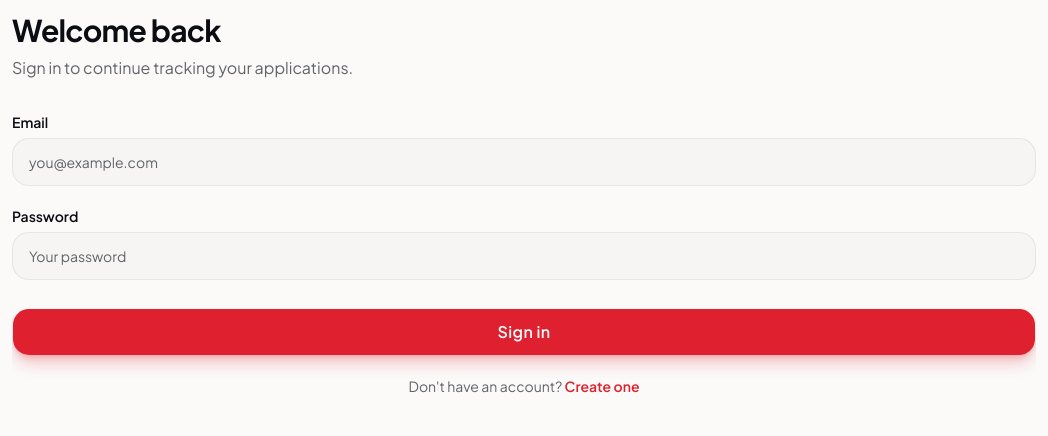
Scenario: LoginForm › shows validation error for short password
Type "user@example.com" into the field labelled "Email". click: {"x": 524, "y": 162}
box: x1=12 y1=138 x2=1036 y2=186
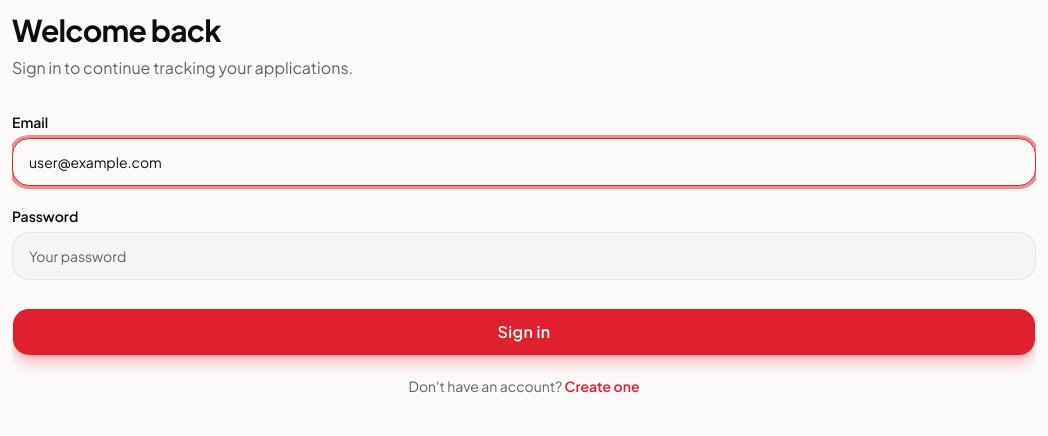
Type "short" into the password field labelled "Password". click: {"x": 524, "y": 256}
box: x1=12 y1=232 x2=1036 y2=280
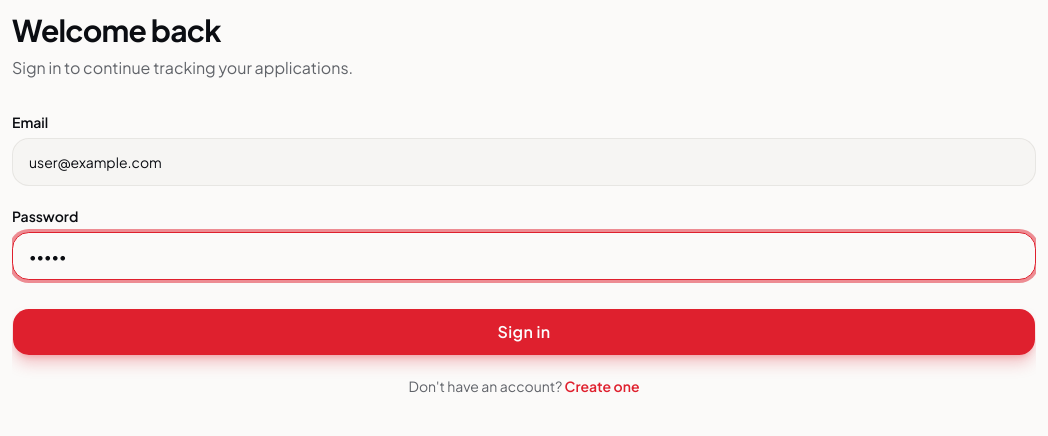
Click the button "Sign in". click: {"x": 524, "y": 332}
box: x1=12 y1=308 x2=1036 y2=356
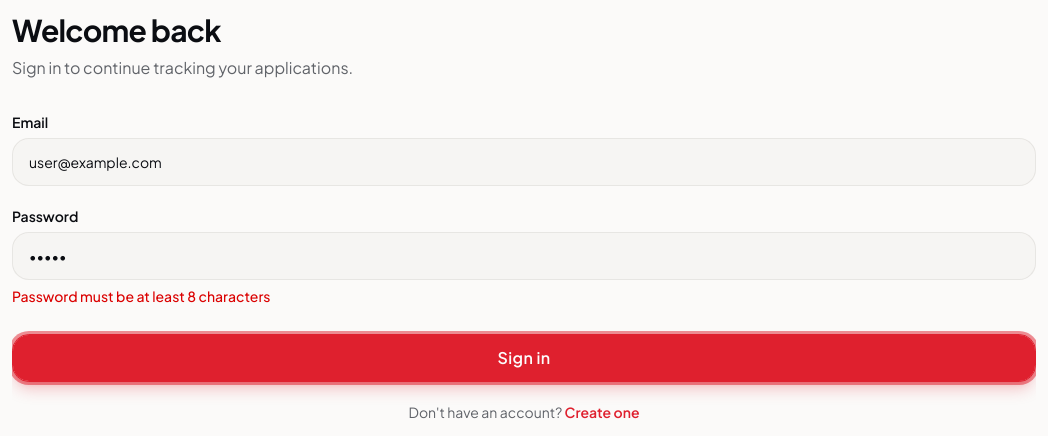
expect the text "Password must be at least 8 characters" is shown: met, box x1=12 y1=287 x2=270 y2=305
